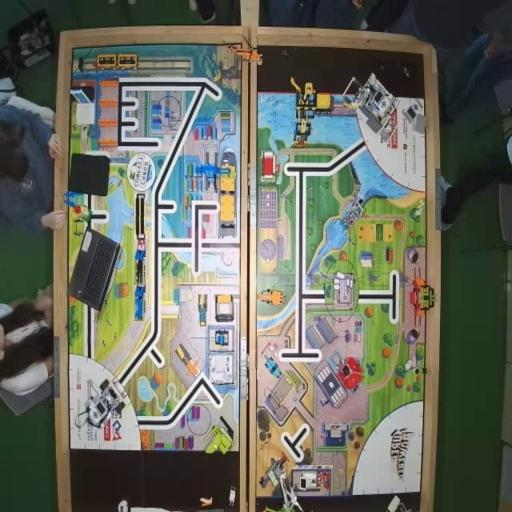lego_robot: (342, 71, 398, 143), (74, 377, 127, 433)
